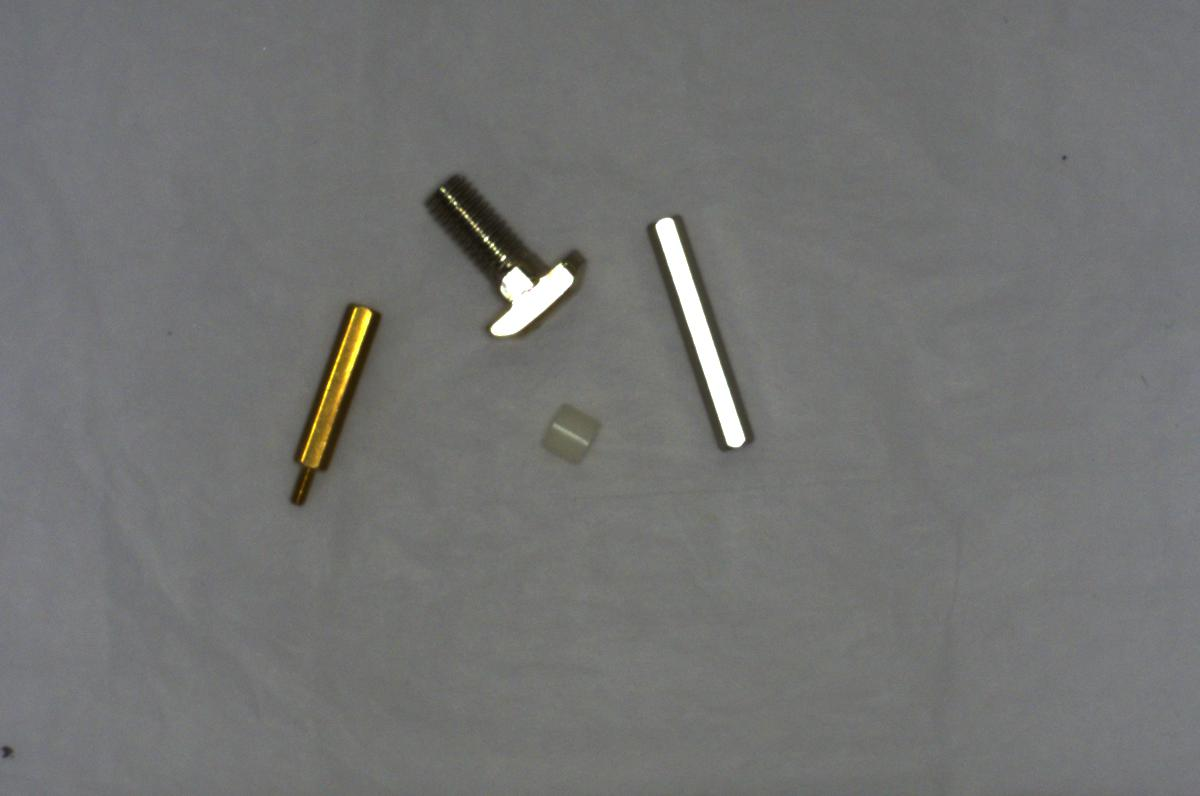Double hexagonal column: (646, 207, 761, 459)
Hexagon pillar: (274, 294, 381, 499)
Plastic cushion pillar: (532, 395, 606, 468)
T-shaped screw: (415, 162, 590, 349)
